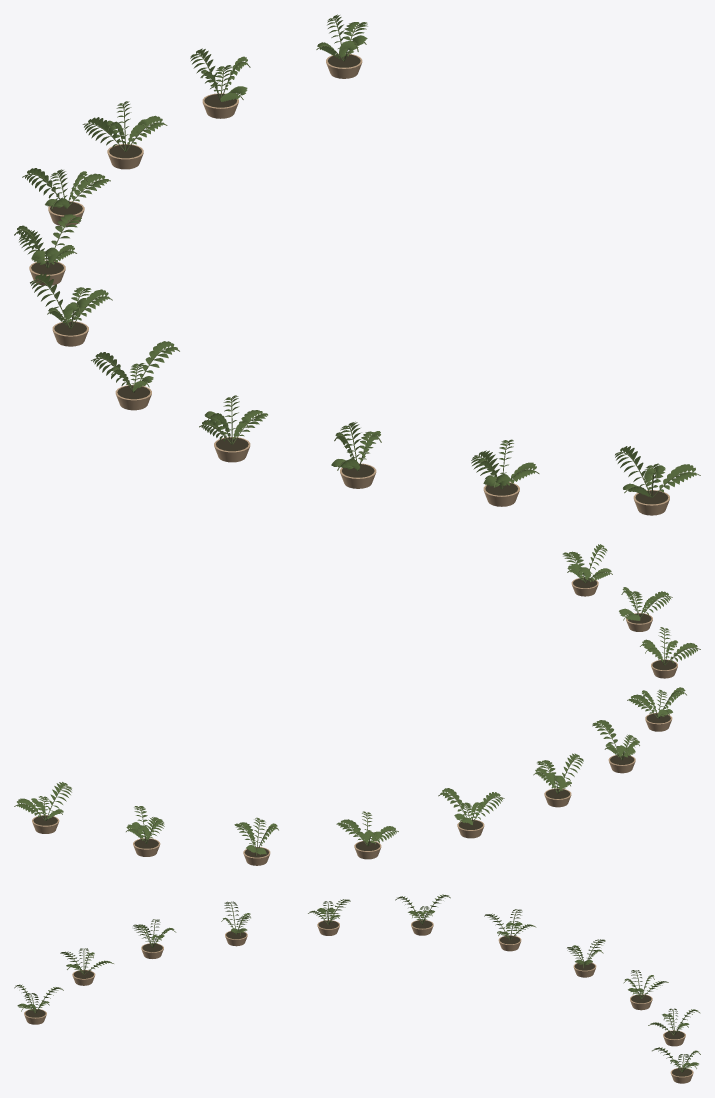
The model's file is planting.glb.
3 renders of one model, top to bottom at view 1: azimuth 30°, elevation 25°; view 2: azimuth 150°, elevation 25°; view 3: azimuth 270°, elevation 25°, orthographic. The views are drawn at different scales.
Size of the model in its own units: 4.82 by 0.5473 by 8.32.
